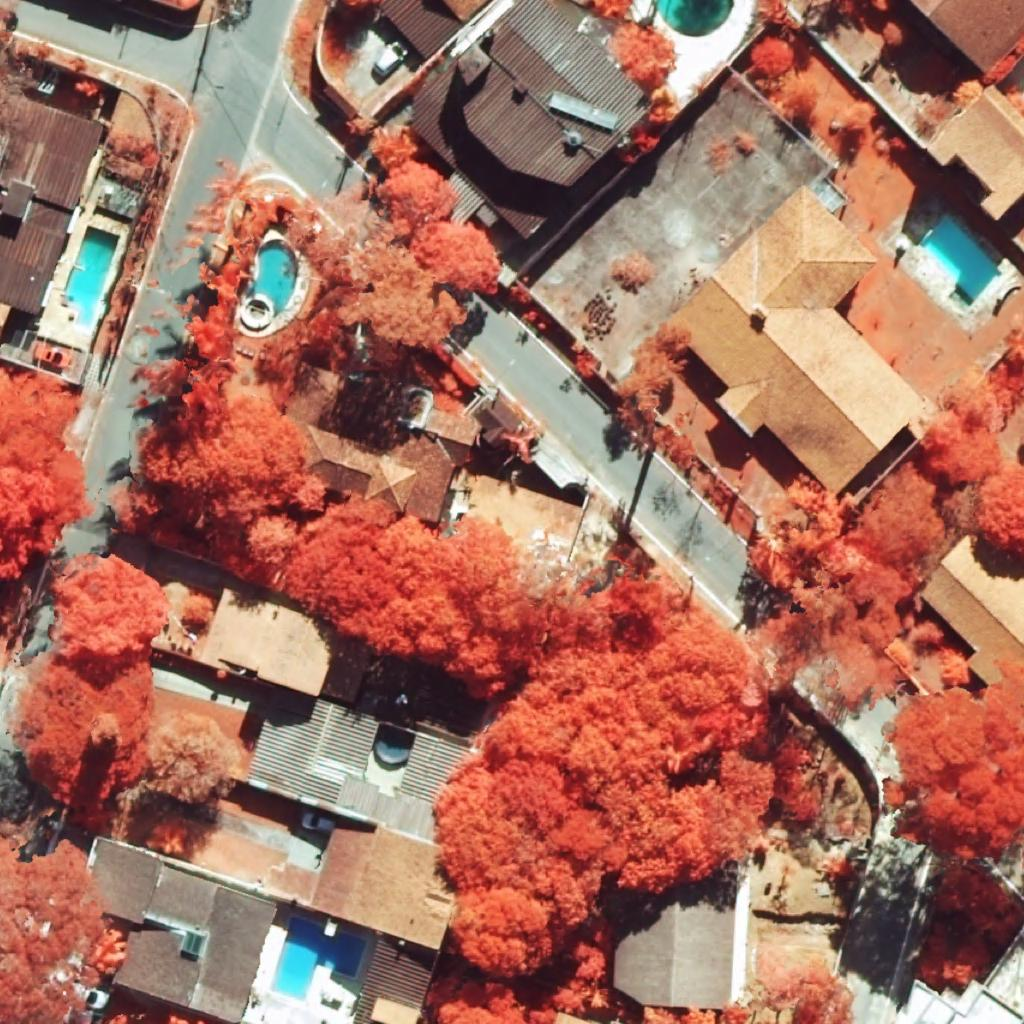pool: (271, 917, 366, 1002), (920, 217, 999, 306), (64, 225, 120, 328), (246, 239, 298, 317), (653, 0, 734, 37)
